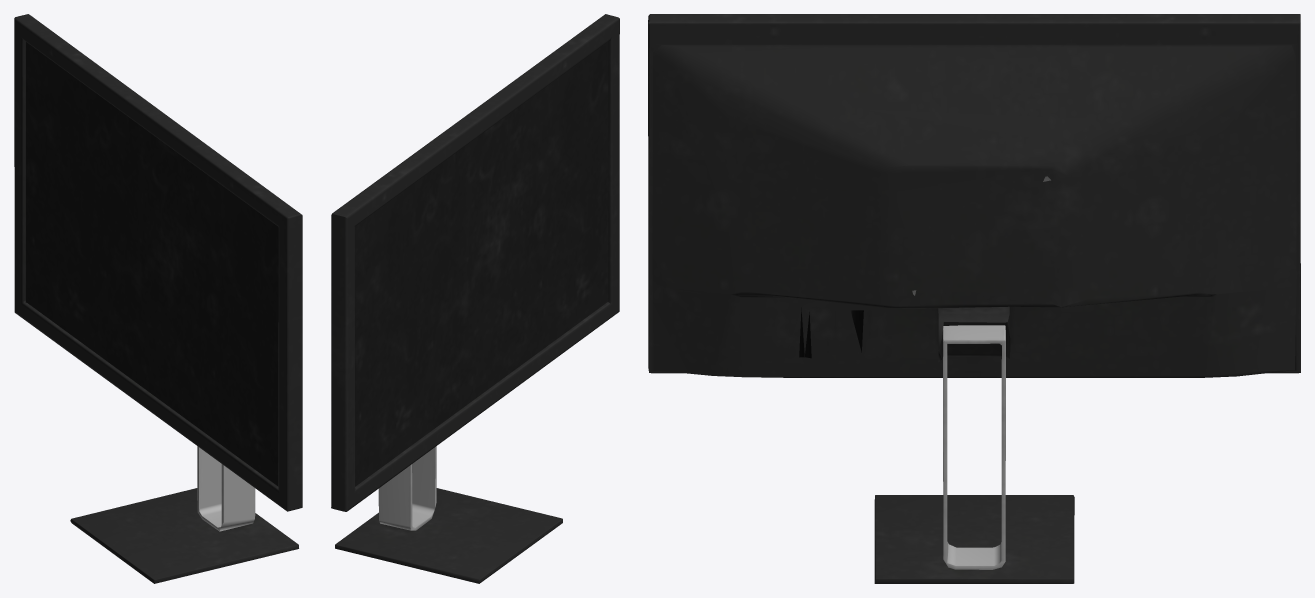
The model's file is SM_Set_Monitor01.fbx.
3 views of the same model, side by side, from view 1: azimuth 30°, elevation 25°; view 2: azimuth 150°, elevation 25°; view 3: azimuth 270°, elevation 25° (orthographic). The views are drawn at different scales.
Parts seen in each view (by area): view 1: SM_Set_Monitor01_LOD0; view 2: SM_Set_Monitor01_LOD0; view 3: SM_Set_Monitor01_LOD0.
Part boxes in pixels (<box>): SM_Set_Monitor01_LOD0: <box>14,14,302,583</box>; SM_Set_Monitor01_LOD0: <box>331,14,619,583</box>; SM_Set_Monitor01_LOD0: <box>648,14,1300,583</box>.
Bounding box in the file's own units: 19.05 × 62.27 × 53.56.
